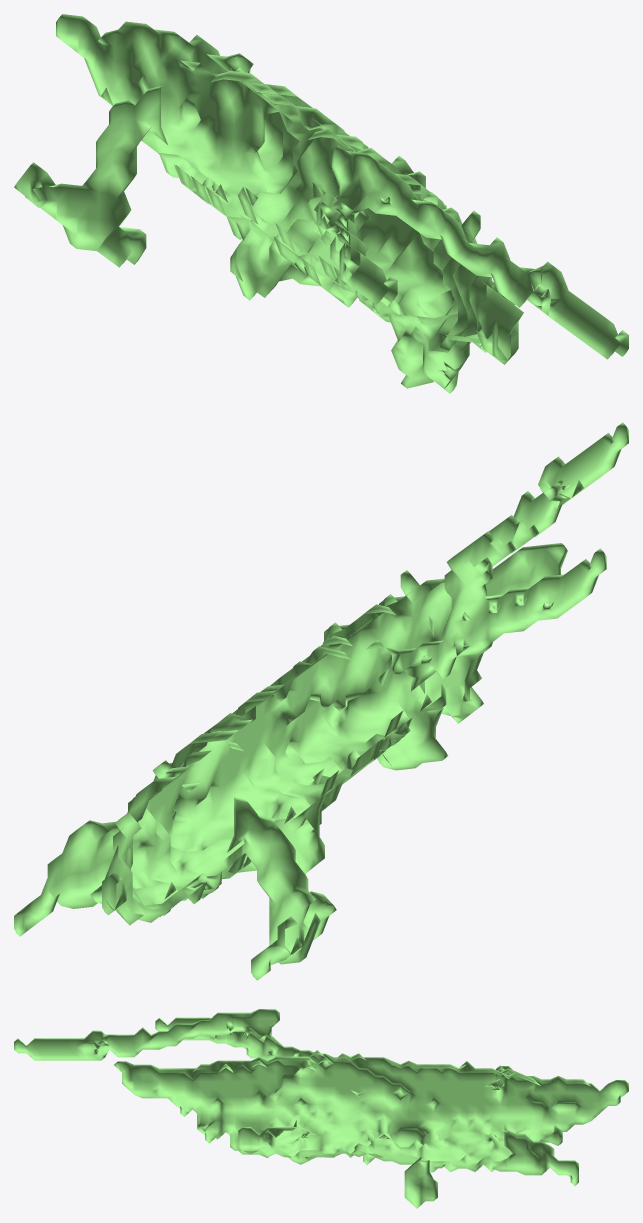
The model's file is osteocyte_12.glb.
The picture shows the model from 3 angles, top to bottom: view 1: azimuth 30°, elevation 25°; view 2: azimuth 150°, elevation 25°; view 3: azimuth 270°, elevation 25°; orthographic projection. The views are drawn at different scales.
Parts seen in each view (by area): view 1: osteocyte_12; view 2: osteocyte_12; view 3: osteocyte_12.
Boxes of the visible parts, box(x1,y1,x2,y2) form: osteocyte_12: box(14, 14, 628, 393); osteocyte_12: box(14, 422, 628, 980); osteocyte_12: box(14, 1009, 628, 1208).
Bounding box in the file's own units: 10.59 × 9.63 × 35.63.
